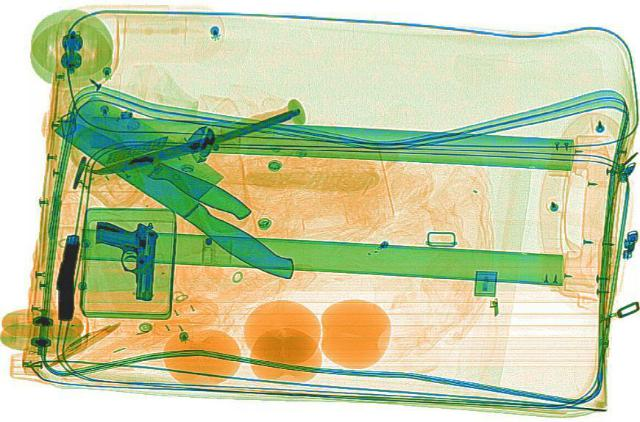Gun: (89, 220, 157, 298), (49, 232, 81, 319)
Knife: (38, 89, 336, 286), (45, 106, 258, 222), (83, 106, 307, 178)
